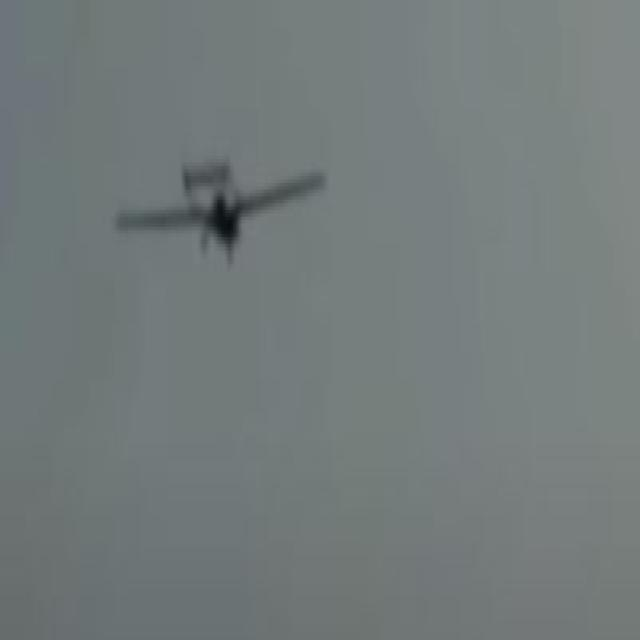iha: (112, 181, 328, 241)
